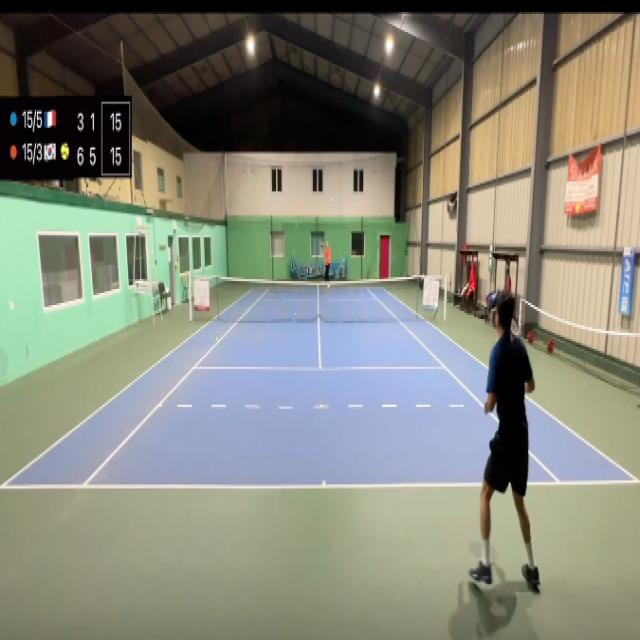ball: (215, 335, 218, 343), (294, 312, 296, 316)
